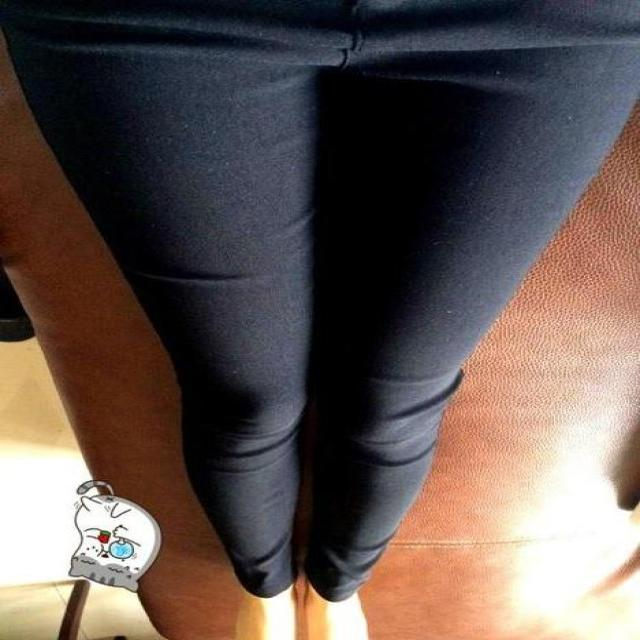trousers: (4, 1, 639, 594)
